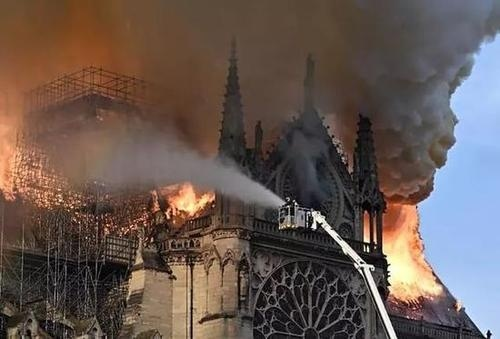fire: (362, 201, 446, 303), (152, 180, 216, 220)
